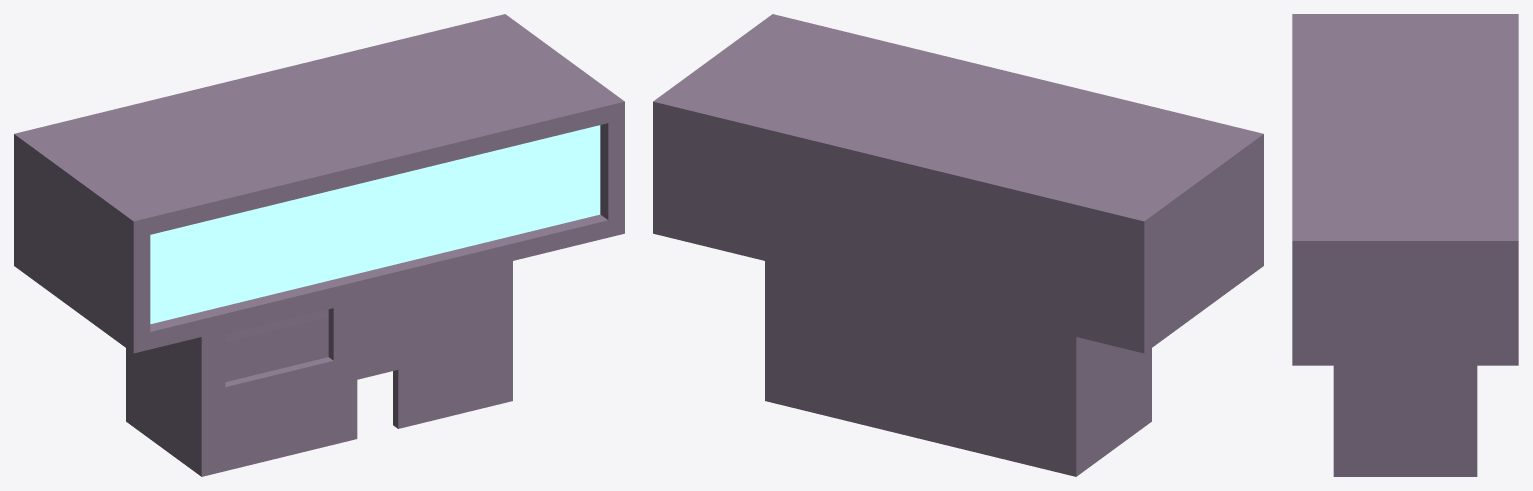
The model's file is Cabin.fbx.
3 views of the same model, side by side, from view 1: azimuth 30°, elevation 25°; view 2: azimuth 150°, elevation 25°; view 3: azimuth 270°, elevation 25° (orthographic). The views are drawn at different scales.
Parts seen in each view (by area): view 1: Ship.001; view 2: Ship.001; view 3: Ship.001.
Part boxes in pixels (box(x1,y1,x2,y2)): Ship.001: box(14, 14, 624, 476); Ship.001: box(653, 14, 1263, 476); Ship.001: box(1292, 14, 1518, 476).
Bounding box in the file's own units: 3747 × 2139 × 1581.
